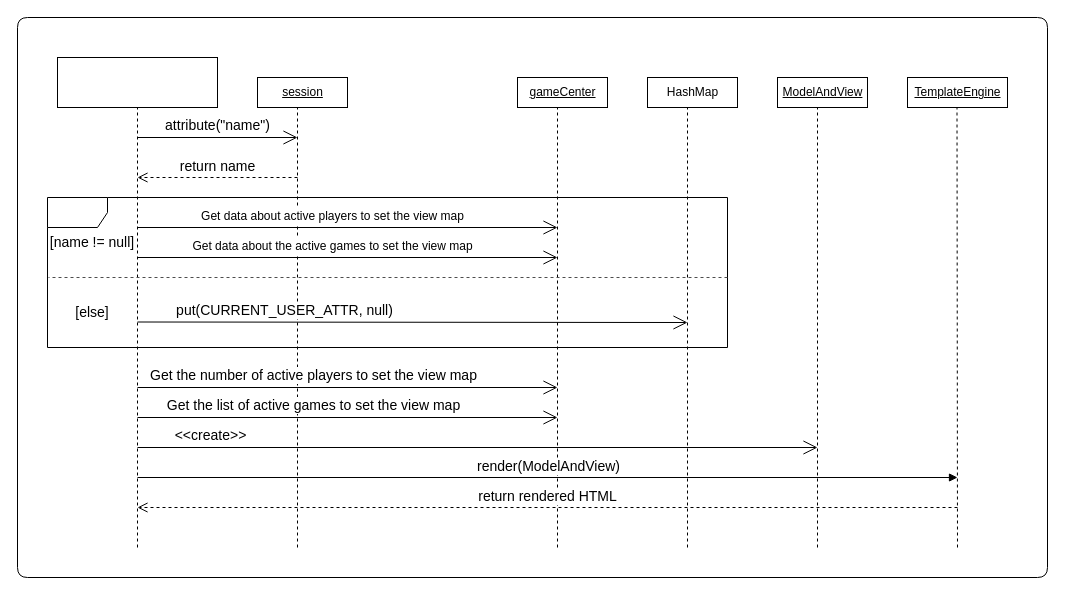
The diagram is 1066 pixels wide and 596 high, and some of its shapes have lost their labels. The shapes that lost their labels are listed below. From the top down, each one's box as (x1, y1, x2, y2) in pixels, then its label:
(56, 56, 218, 108): <<implementation class>> GetHomeRoute
(46, 196, 728, 348): if
